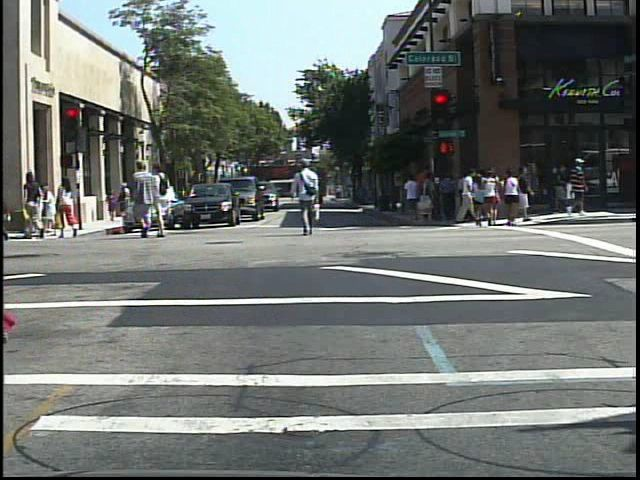person: (292, 154, 326, 241), (128, 158, 161, 242), (561, 154, 594, 218), (23, 168, 50, 245), (56, 172, 79, 240), (155, 161, 175, 239), (469, 173, 487, 231)
